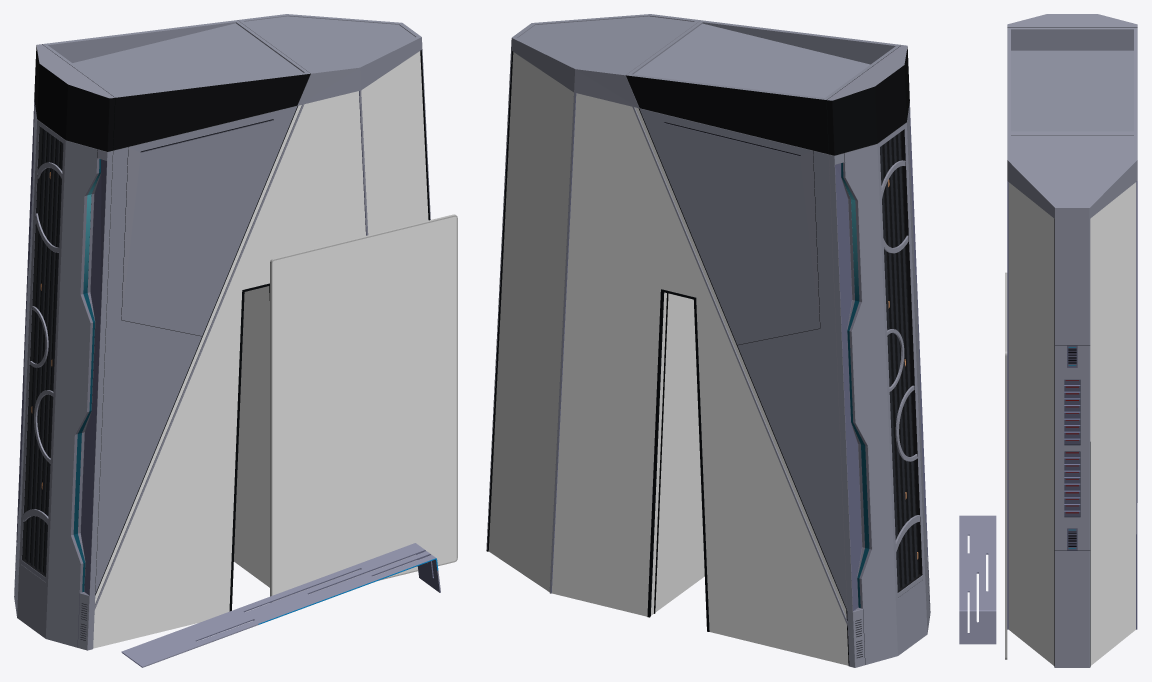
File: Building_Hana_001_2st_L0.fbx
The picture shows the model from 3 angles, left to right: view 1: azimuth 30°, elevation 25°; view 2: azimuth 150°, elevation 25°; view 3: azimuth 270°, elevation 25°; orthographic projection. The views are drawn at different scales.
Parts seen in each view (by area): view 1: Building_Hana_001_2st_L0; view 2: Building_Hana_001_2st_L0; view 3: Building_Hana_001_2st_L0.
Part boxes in pixels (x1=…): Building_Hana_001_2st_L0: x1=14, y1=14, x2=457, y2=667; Building_Hana_001_2st_L0: x1=486, y1=14, x2=930, y2=667; Building_Hana_001_2st_L0: x1=959, y1=14, x2=1137, y2=667.
Size of the model in its own units: 58.72 by 25.15 by 76.63.
